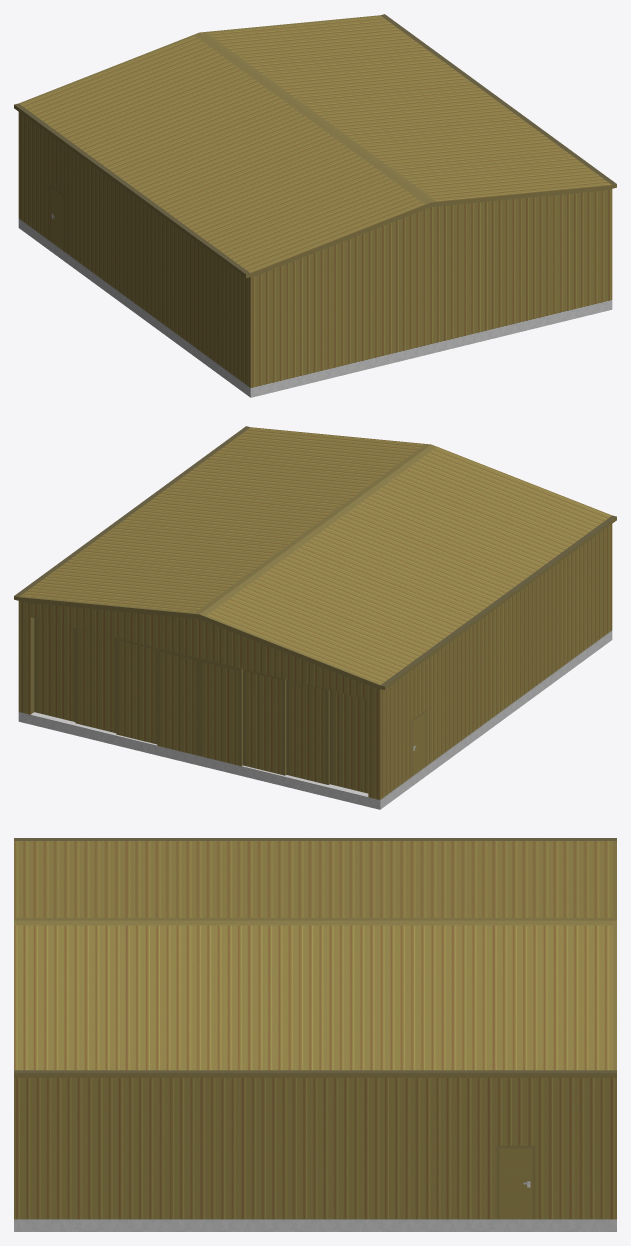
File: hangar-18x20x5mustard-cbj_LOD00.gltf
3 renders of one model, top to bottom at view 1: azimuth 30°, elevation 25°; view 2: azimuth 150°, elevation 25°; view 3: azimuth 270°, elevation 25°, orthographic. The views are drawn at different scales.
Parts seen in each view (by area): view 1: hangar; view 2: hangar; view 3: hangar.
Part boxes in pixels (bbox=[...]): hangar: bbox=[14, 14, 616, 397]; hangar: bbox=[14, 426, 616, 809]; hangar: bbox=[14, 838, 616, 1231].
Size of the model in its own units: 18.44 by 7.19 by 20.
